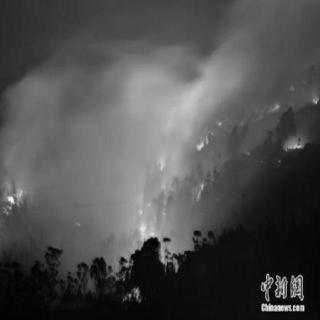Fire: (142, 69, 318, 247), (1, 176, 31, 226)
